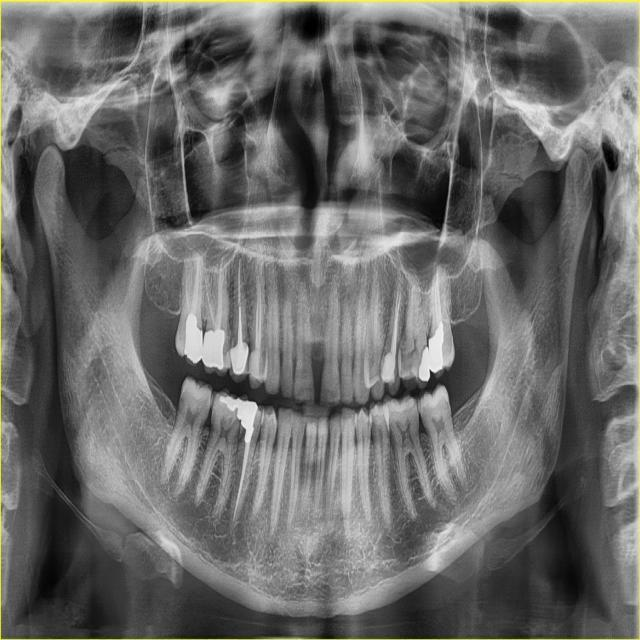71: (232, 304, 247, 369)
74: (232, 440, 251, 526), (206, 257, 222, 330), (389, 285, 402, 359), (191, 256, 200, 315), (255, 283, 263, 349), (184, 264, 190, 312), (434, 271, 439, 327), (438, 266, 442, 321), (238, 258, 240, 305)
NucleOSS Implant: (182, 313, 206, 365), (217, 386, 251, 420), (201, 327, 224, 369), (237, 400, 258, 445), (428, 320, 444, 374), (417, 346, 432, 383)
Sterngold Implant: (399, 342, 414, 378), (177, 388, 188, 410), (445, 398, 452, 418)
Straumann Implant: (249, 349, 264, 387), (381, 351, 395, 384)
Zimmer Implant: (229, 342, 251, 381)
